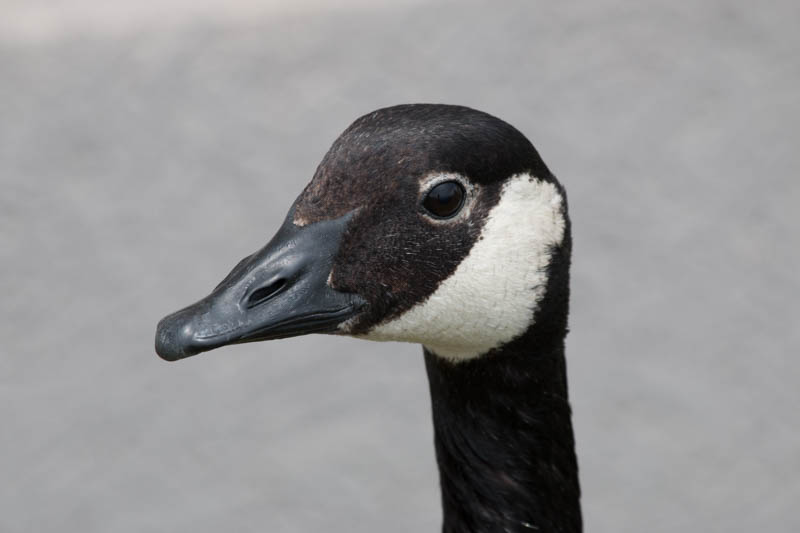goose-head: (154, 102, 572, 360)
